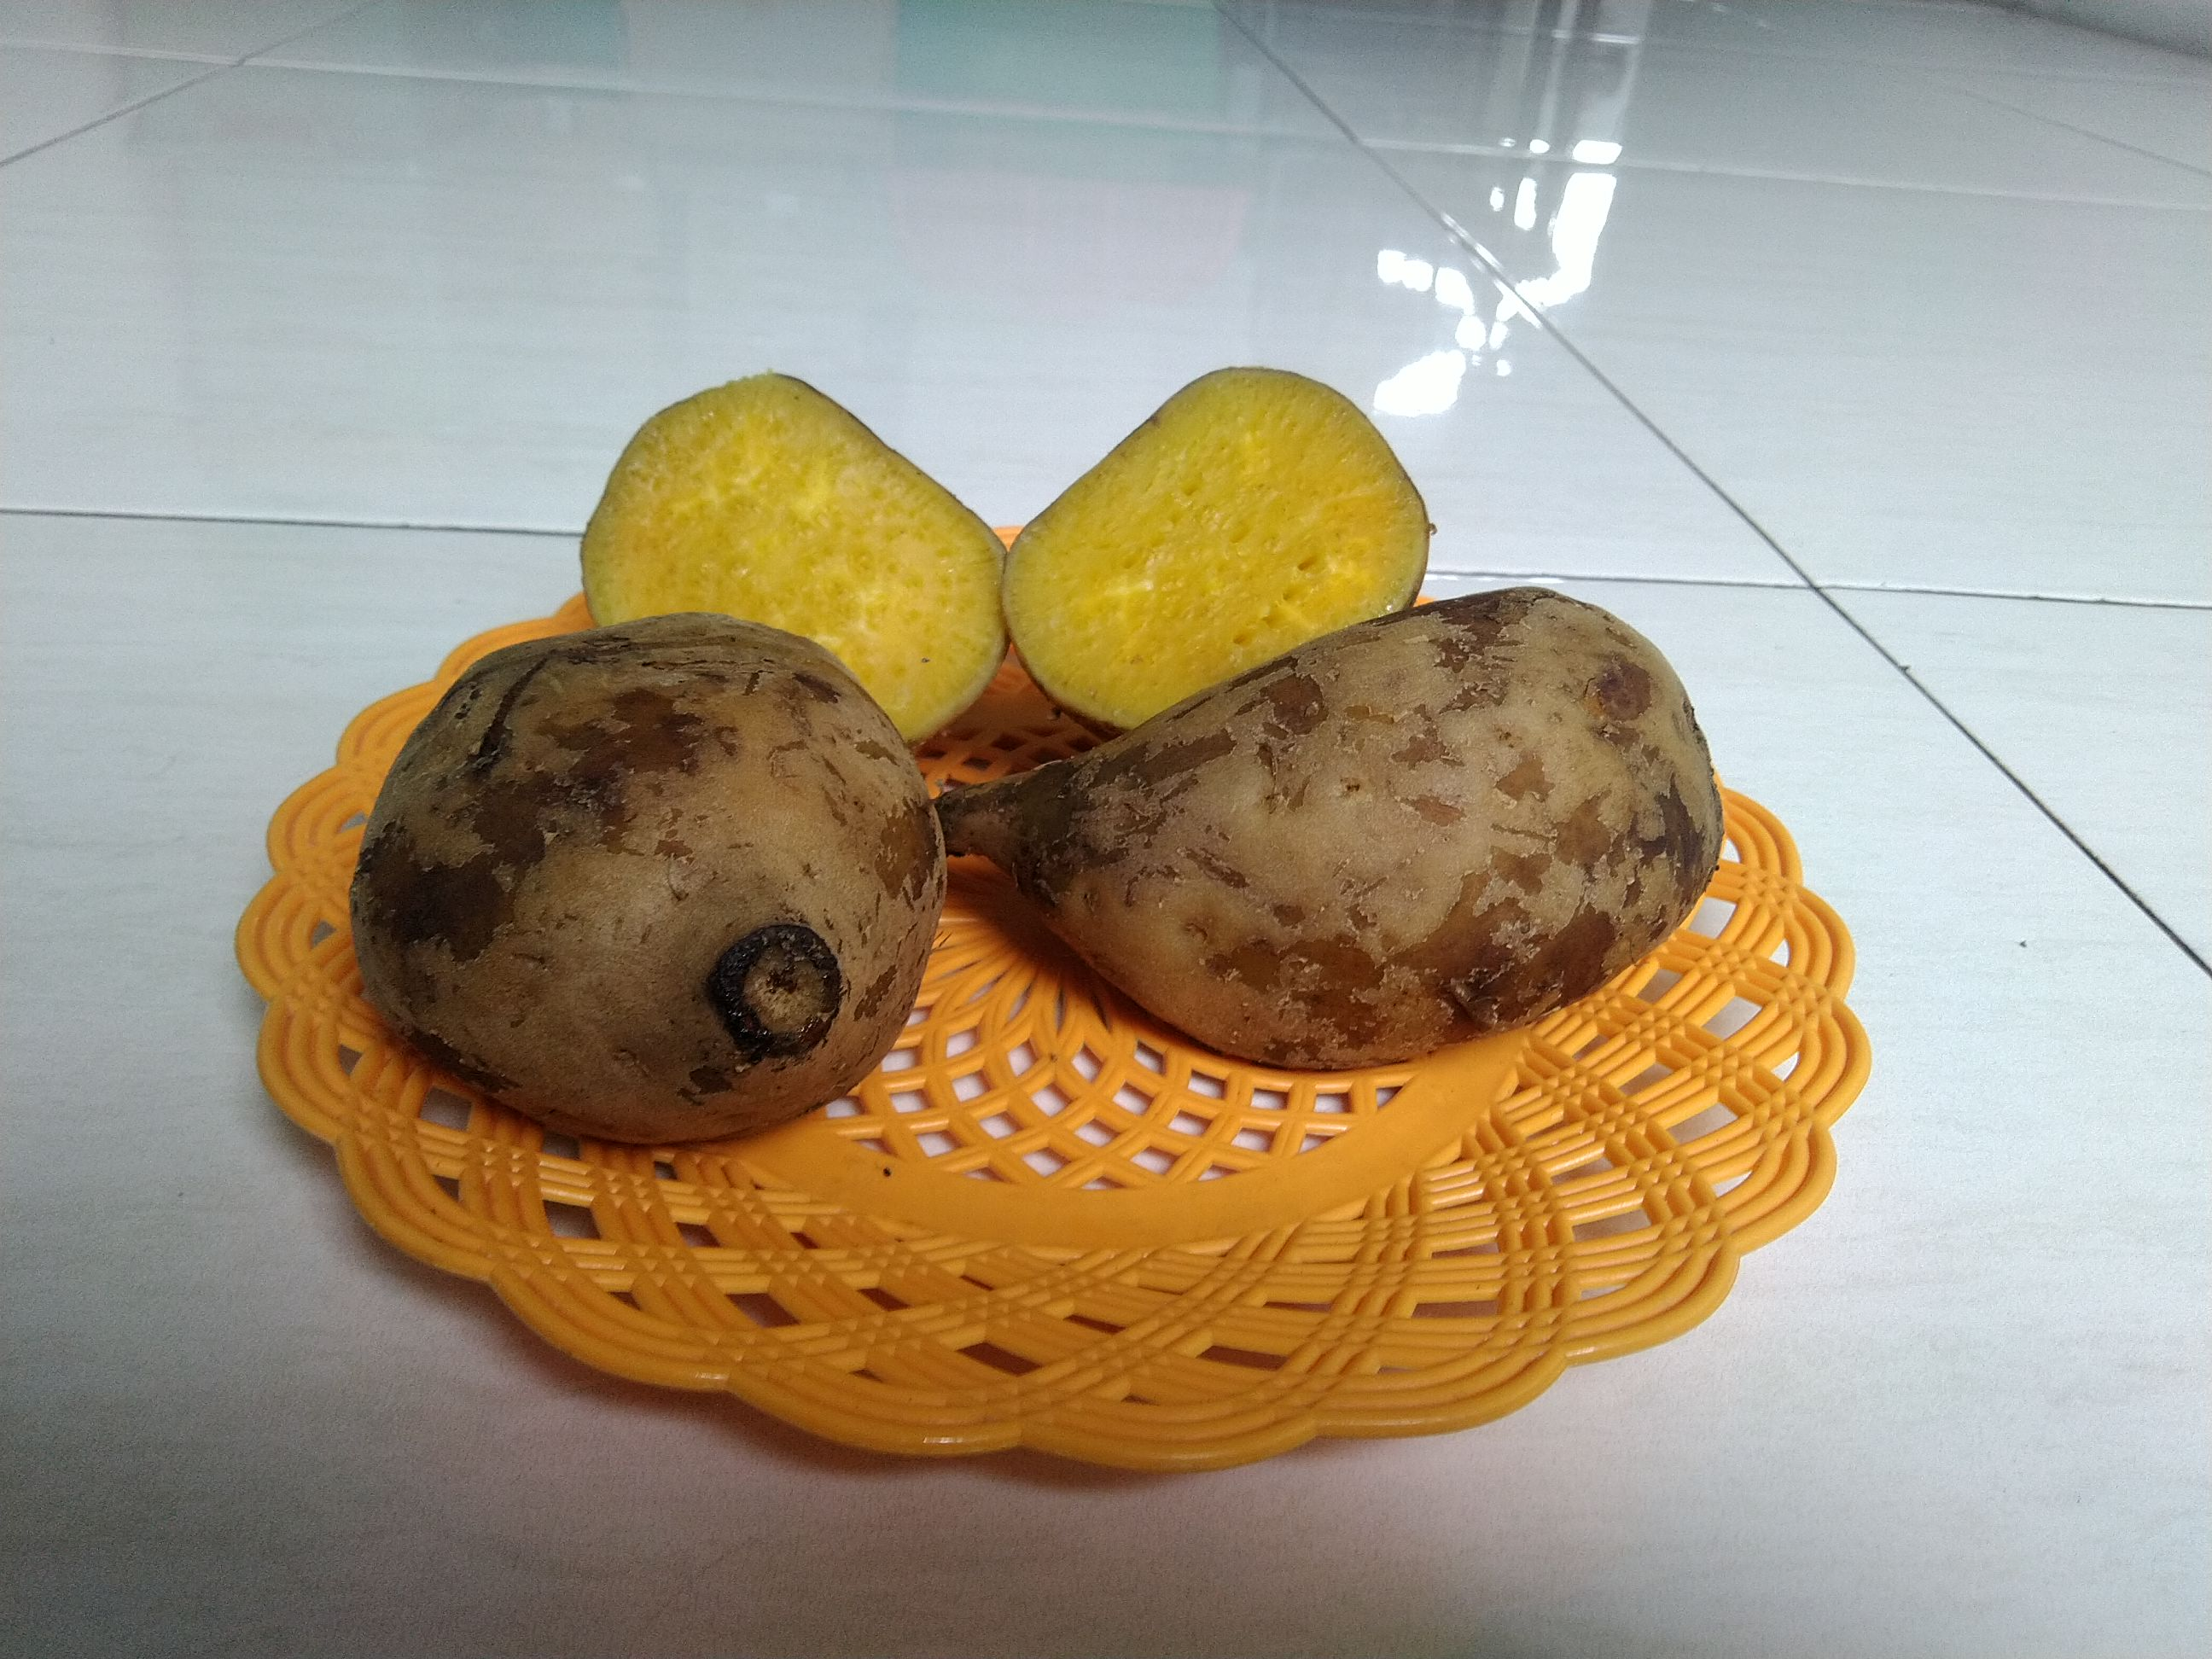ubi kuning: (324, 319, 1756, 1201), (930, 591, 1737, 1082), (371, 592, 953, 1152), (578, 366, 1012, 742), (1003, 355, 1444, 706)
